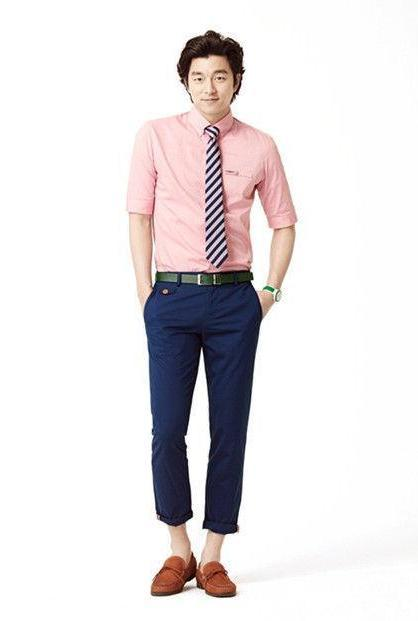F_belt: (154, 264, 258, 288)
F_tie: (202, 124, 233, 264)
